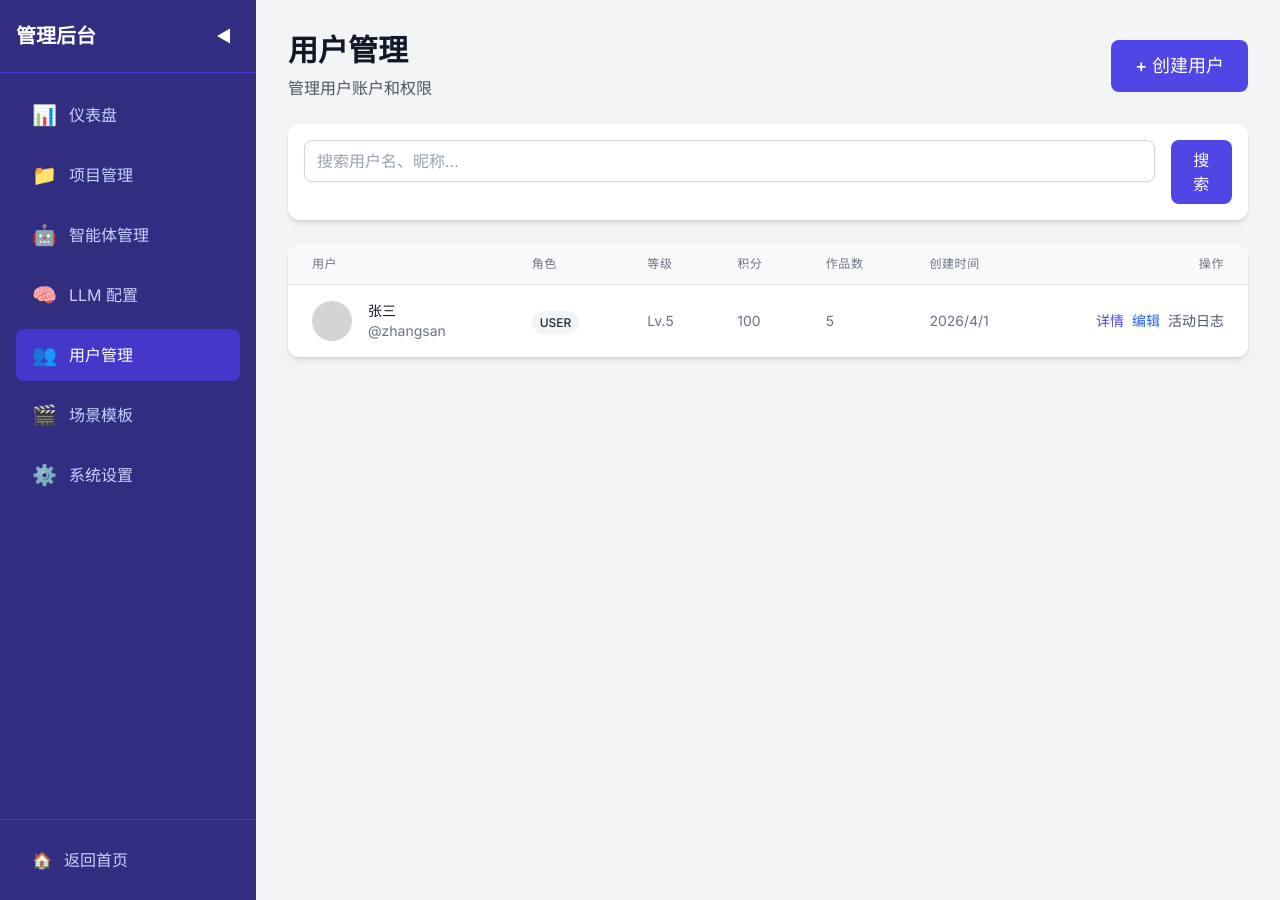
UsersPage › 编辑用户功能 › 应该显示编辑模态框
This screenshot has width=1280, height=900.
Click the button "编辑".
click(1146, 321)  # box [1132,311,1160,331]
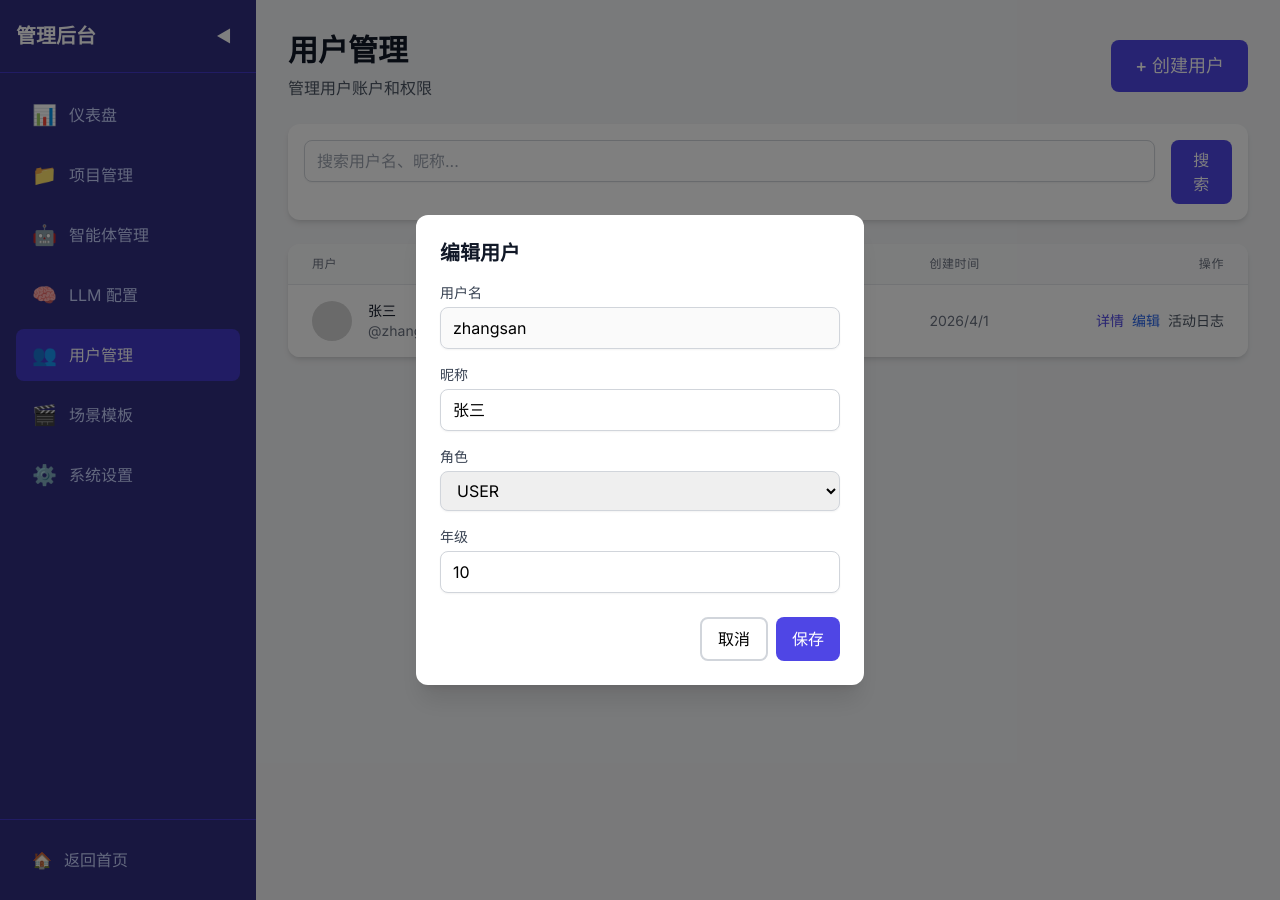
Result: the heading "编辑用户" is shown at [440,241,520,265]
